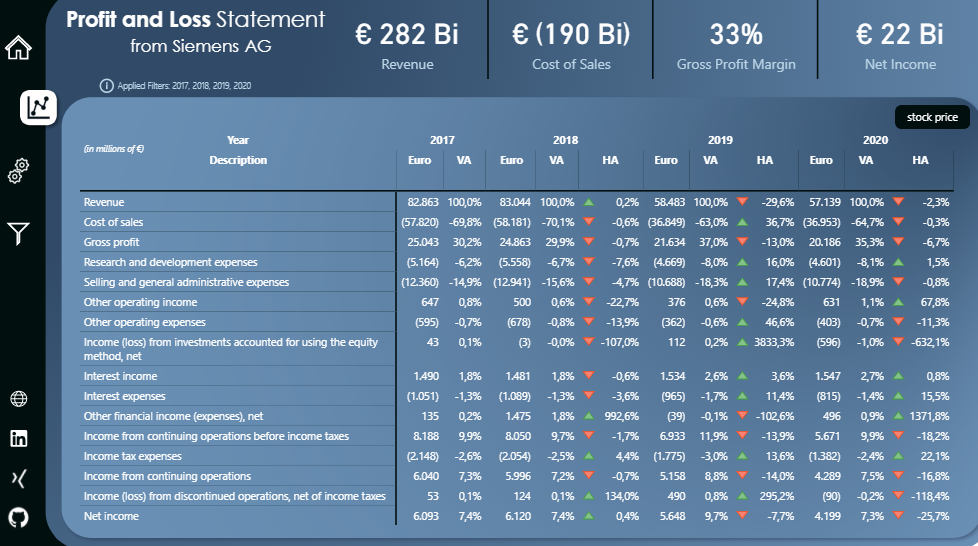

The dashboard page shown, as its layout file describes it:
{"tool":"powerbi","page":{"name":"statement","canvas":[1280,720],"ordinal":1},"visuals":[{"type":"pivotTable","fields":{"Rows":["dDescription.Description"],"Values":["_Measures.Stateemt","_Measures.VA Statement","_Measures.HA Statement"],"Columns":["dCalendar.Year"]},"box":[124.6,179.6,1123.8,515.4],"z":0},{"type":"textbox","box":[112.5,9.4,120.8,44.9],"z":500,"group":"g1"},{"type":"textbox","box":[130.3,193.2,110.8,28.4],"z":1000},{"type":"card","fields":{"Values":["_Measures.Net Income"]},"box":[1053.1,25.7,205.7,94],"z":2000},{"type":"card","fields":{"Values":["_Measures.Gross Profit Margin"]},"box":[847.4,25.7,205.7,94],"z":3000},{"type":"card","fields":{"Values":["_Measures.Cost of Sales"]},"box":[641.8,25.7,205.7,94],"z":4000},{"type":"card","fields":{"Values":["_Measures.Revenue"]},"box":[436.1,25.7,205.7,94],"z":5000},{"type":"actionButton","box":[150.6,116.4,243,27.4],"z":6000},{"type":"actionButton","box":[38.8,504.2,30.8,35.4],"z":7000},{"type":"actionButton","box":[38.8,552.2,30.8,35.4],"z":8000},{"type":"actionButton","box":[39.9,603.5,30.8,35.4],"z":9000},{"type":"actionButton","box":[37.6,653.7,30.8,35.4],"z":10000},{"type":"shape","box":[1149,154,93.9,29.5],"z":11000},{"type":"actionButton","box":[24,55.9,62.7,55.9],"z":12000},{"type":"actionButton","box":[24.4,211.2,62.3,56],"z":13000},{"type":"actionButton","box":[24,290.9,62.7,55.9],"z":14000},{"type":"group","id":"g1","title":"Group 2","box":[8.1,9.3,1263.7,699.2],"z":16000}]}

Visuals, with their boxes on the page's 1280x720 design canvas (x1, y1, x2, y2). These are canvas units, not pixel positions in the 978x546 screenshot, which may show the page scaled, cropped or inside an application window:
pivotTable - dDescription.Description x _Measures.Stateemt: crop(125, 180, 1248, 695)
textbox: crop(112, 9, 233, 54)
textbox: crop(130, 193, 241, 222)
card - _Measures.Net Income: crop(1053, 26, 1259, 120)
card - _Measures.Gross Profit Margin: crop(847, 26, 1053, 120)
card - _Measures.Cost of Sales: crop(642, 26, 848, 120)
card - _Measures.Revenue: crop(436, 26, 642, 120)
actionButton: crop(151, 116, 394, 144)
actionButton: crop(39, 504, 70, 540)
actionButton: crop(39, 552, 70, 588)
actionButton: crop(40, 604, 71, 639)
actionButton: crop(38, 654, 68, 689)
shape: crop(1149, 154, 1243, 184)
actionButton: crop(24, 56, 87, 112)
actionButton: crop(24, 211, 87, 267)
actionButton: crop(24, 291, 87, 347)
"Group 2" group: crop(8, 9, 1272, 708)
